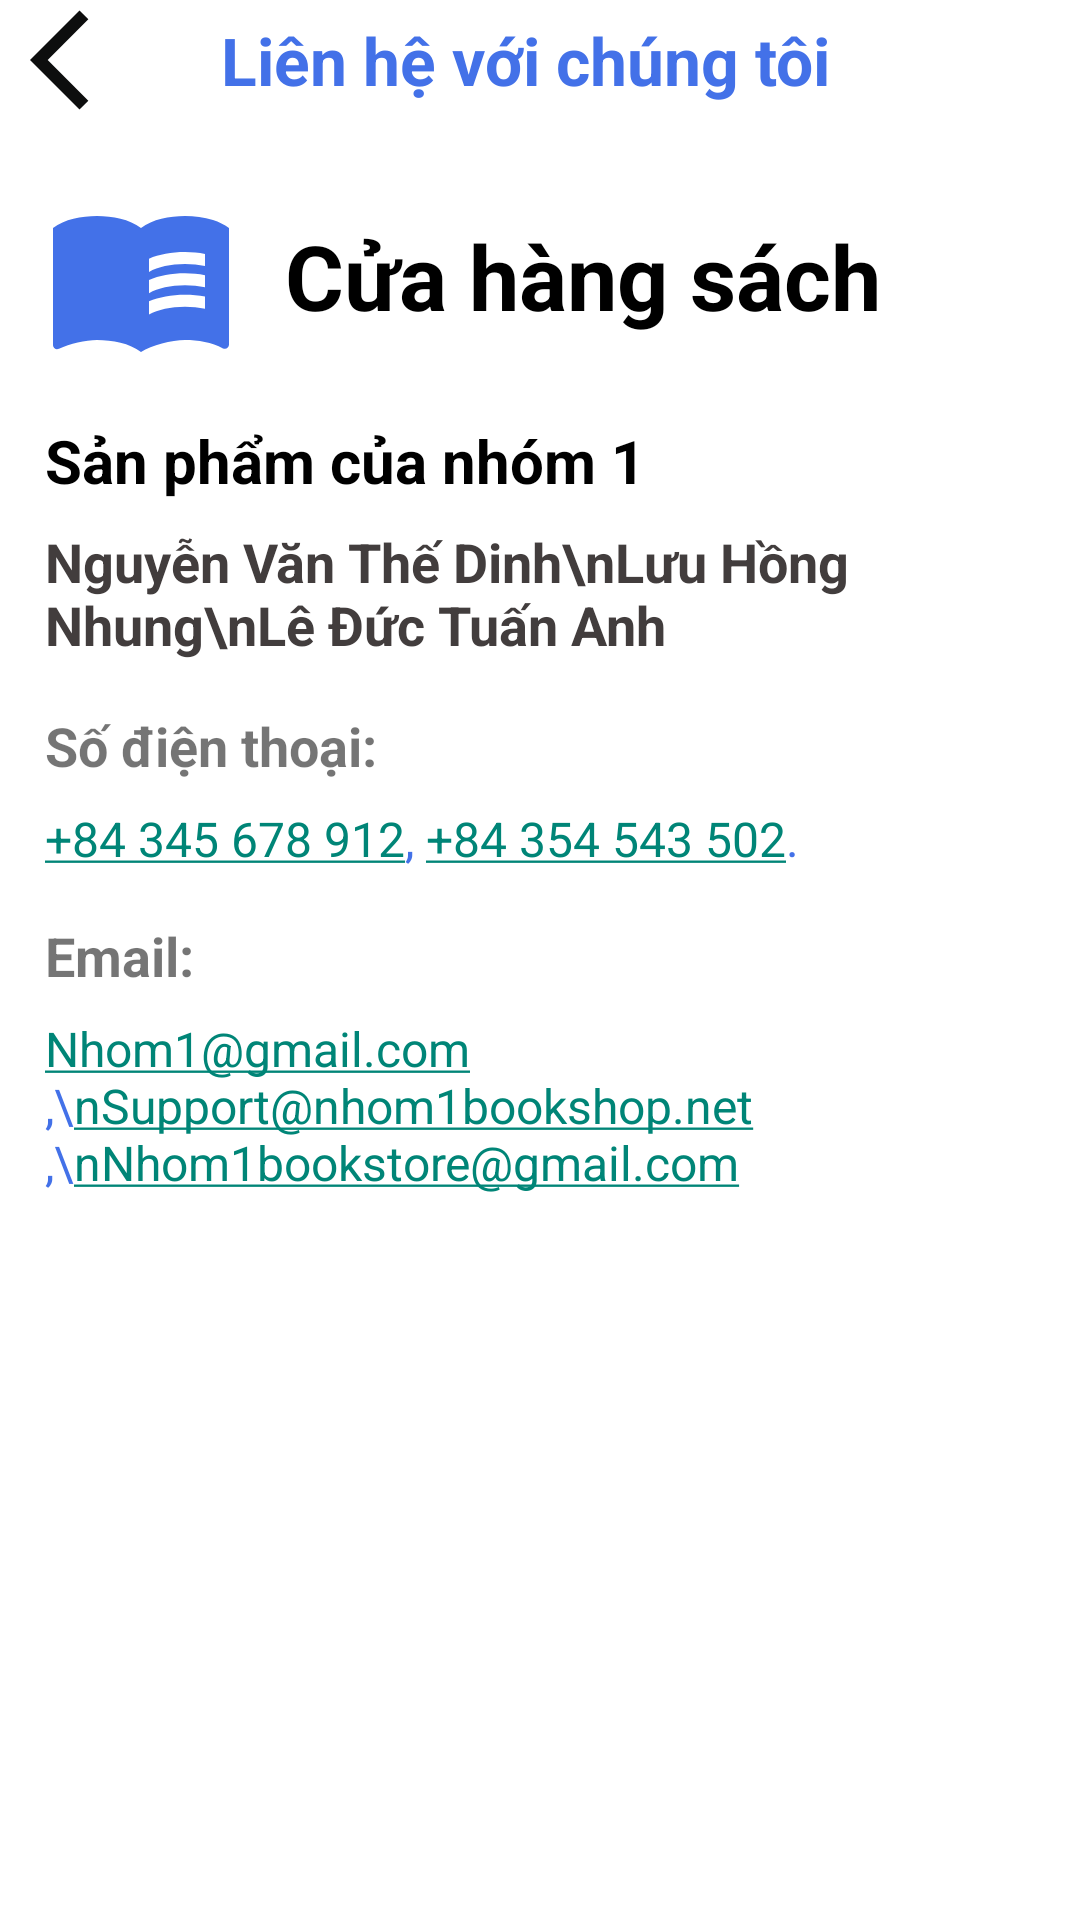

Icon bounding boxes for this 1080px x 1920px phone screenshot, format (x1, y1, x2, y2):
back: (30, 10, 89, 110)
